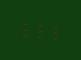eight: (47, 20, 60, 41)
five: (33, 19, 46, 40)
six: (18, 18, 31, 39)
